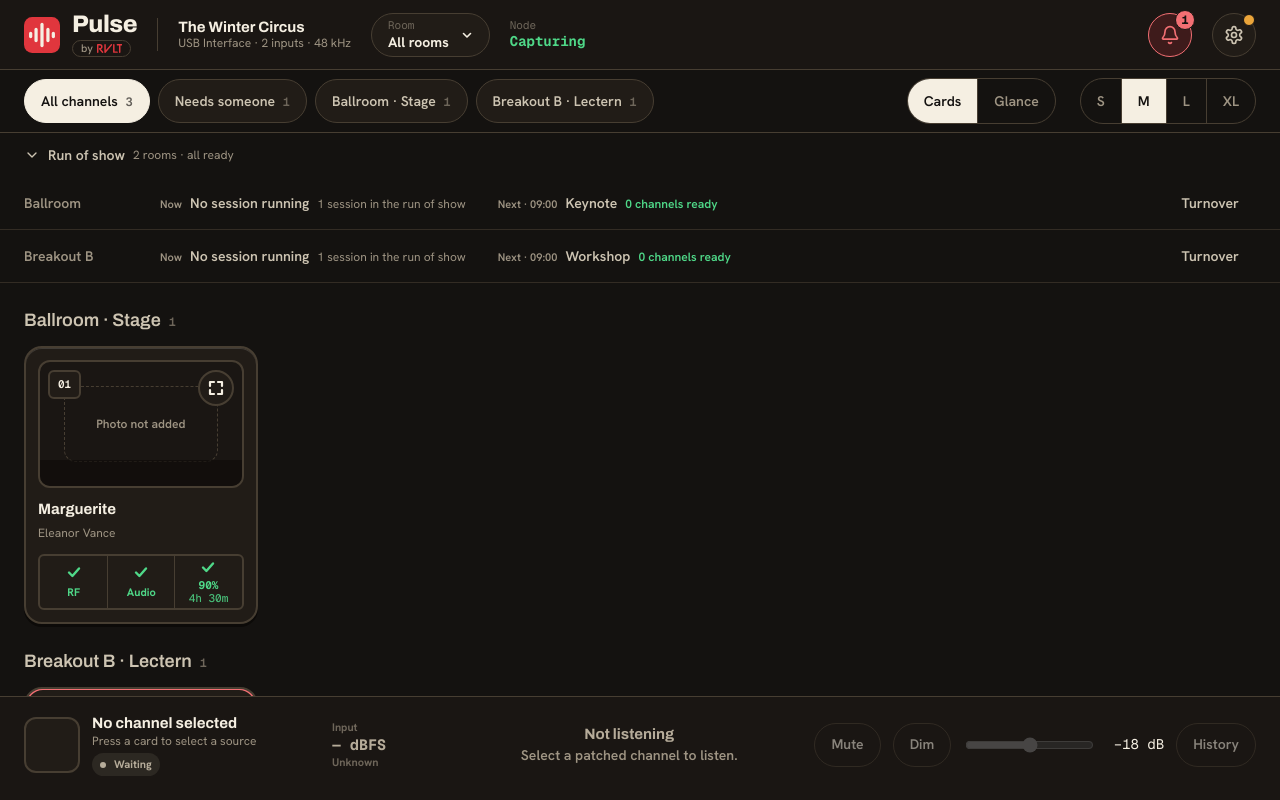
Rooms › switches room from the header, shows each room's state, and remembers the choice
Step 1. Click the button with aria-label "Room: All rooms. Change room" → (430, 34), box [371, 12, 490, 56]
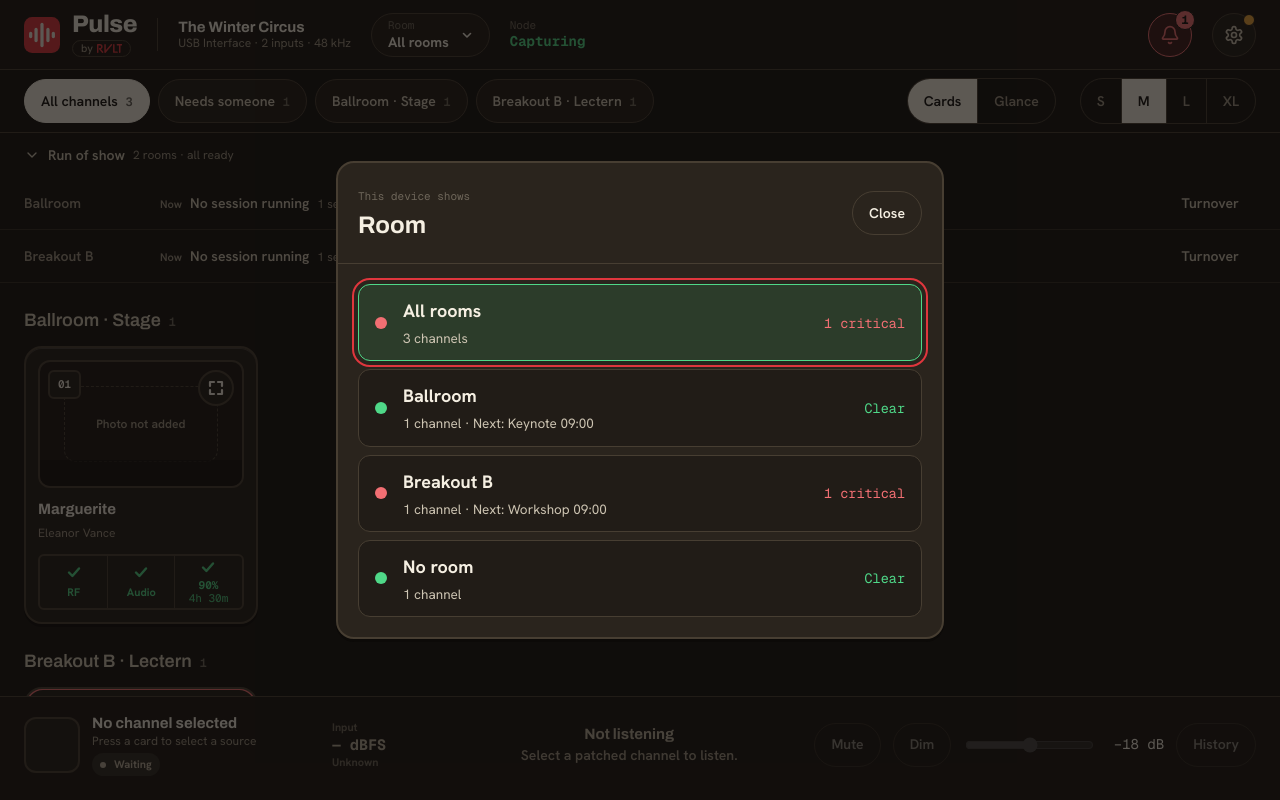
Expected: the button "Breakout B 1 channel · Next: Workshop 09:00 1 critical" is shown
Expected: the button "Ballroom 1 channel · Next: Keynote 09:00 Clear" is shown, [358, 369, 922, 447]
Step 2. Click the button "Breakout B 1 channel · Next: Workshop 09:00 1 critical" → (448, 481), box [358, 454, 922, 532]
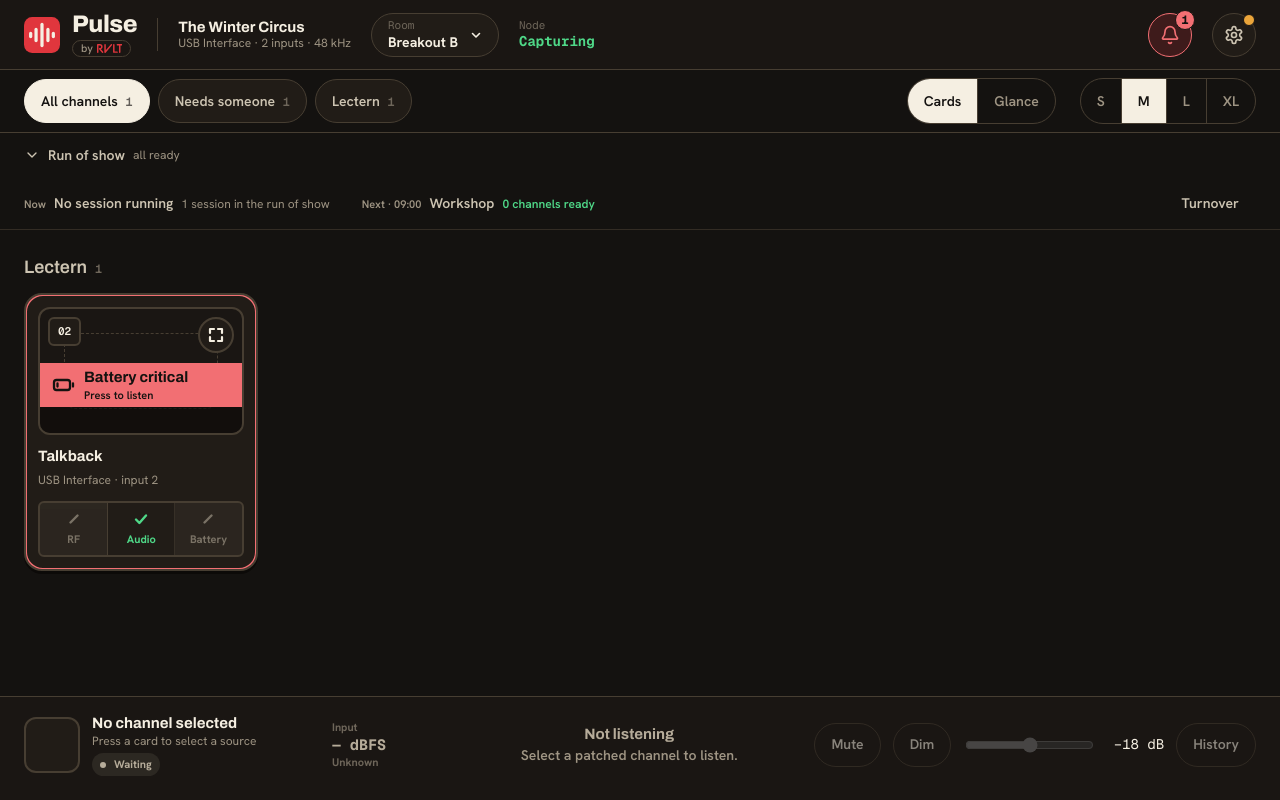
Expected: the element "Lectern" is shown, [24, 257, 258, 571]
Expected: the dialog is gone
Expected: the heading "Marguerite" is gone
